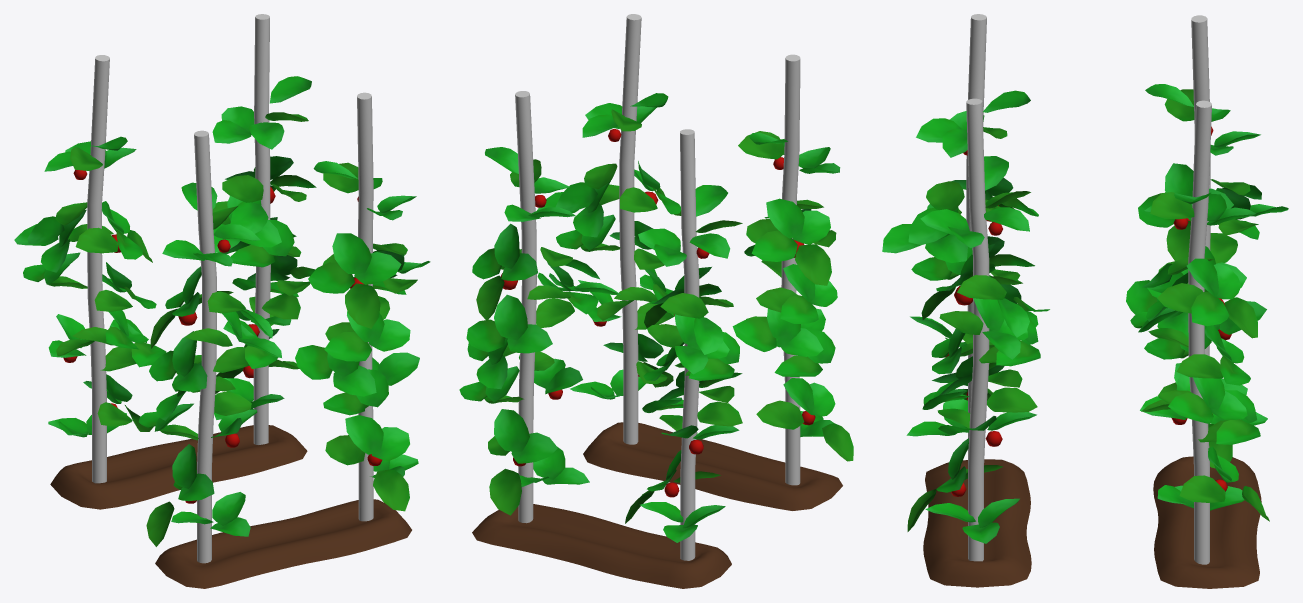
The model's file is Tomato3.fbx.
The picture shows the model from 3 angles, left to right: view 1: azimuth 30°, elevation 25°; view 2: azimuth 150°, elevation 25°; view 3: azimuth 270°, elevation 25°; orthographic projection. The views are drawn at different scales.
Visible parts, largest first — view 1: 3; view 2: 3; view 3: 3.
Boxes of the visible parts, x1,y1,x2,y2 form: 3: [14, 14, 430, 588]; 3: [459, 14, 853, 588]; 3: [882, 14, 1288, 588].
Size of the model in its own units: 340 by 470 by 372.
